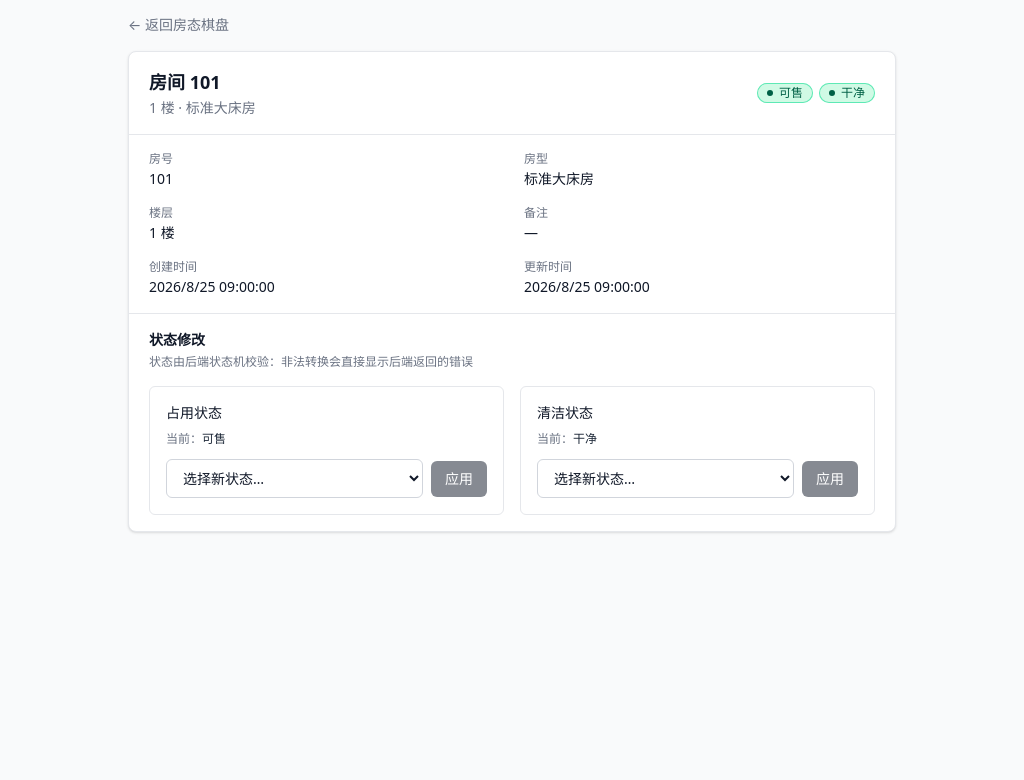
RoomDetailView 状态修改（真实后端状态机语义） › 合法占用状态修改成功 → 徽标与成功提示更新
This screenshot has width=1024, height=780.
Expected: the heading "房间 101" is shown, [149, 70, 221, 94]
Step 1. Select "在住" in the dropdown named "修改占用状态" below "占用状态" → [294, 478], box [166, 459, 423, 498]
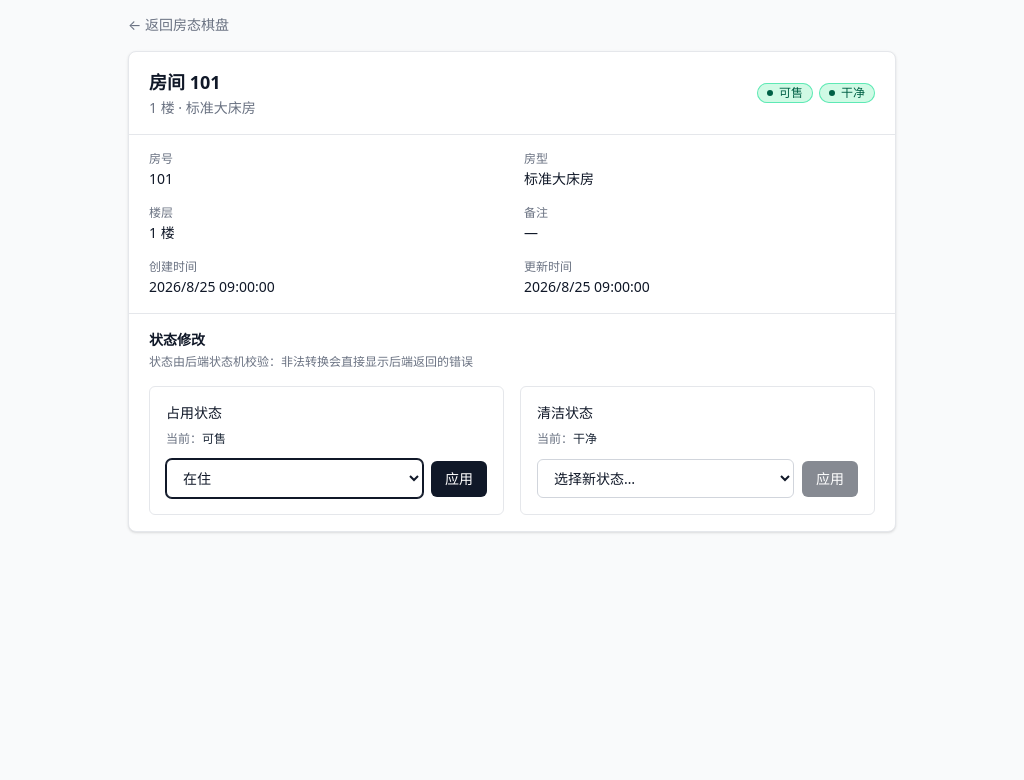
Step 2. Click the button "应用" below "占用状态" → [459, 478], box [431, 460, 487, 496]
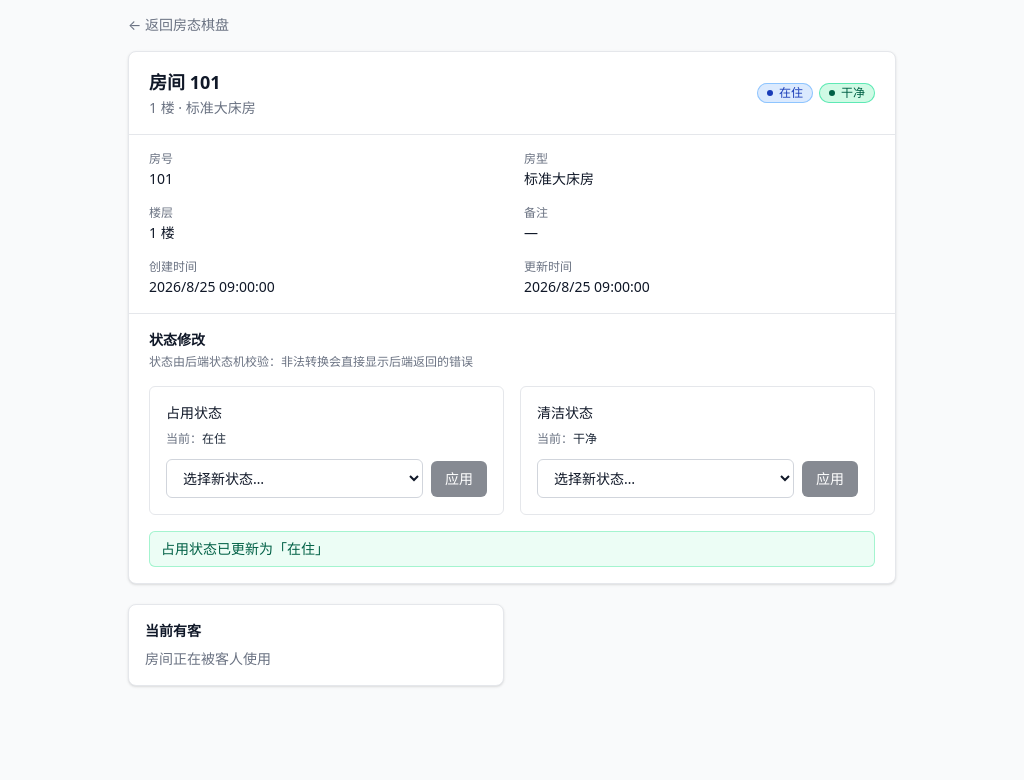
Result: the text "在住" is shown at [757, 83, 813, 103]
Result: the text "占用状态已更新为「在住」" is shown at [149, 531, 875, 567]
